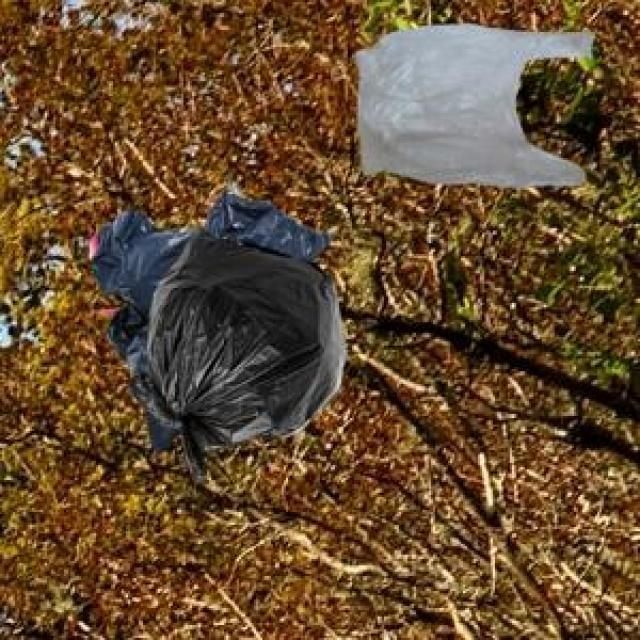miscellaneous trash: (85, 188, 331, 452), (124, 226, 341, 478)
